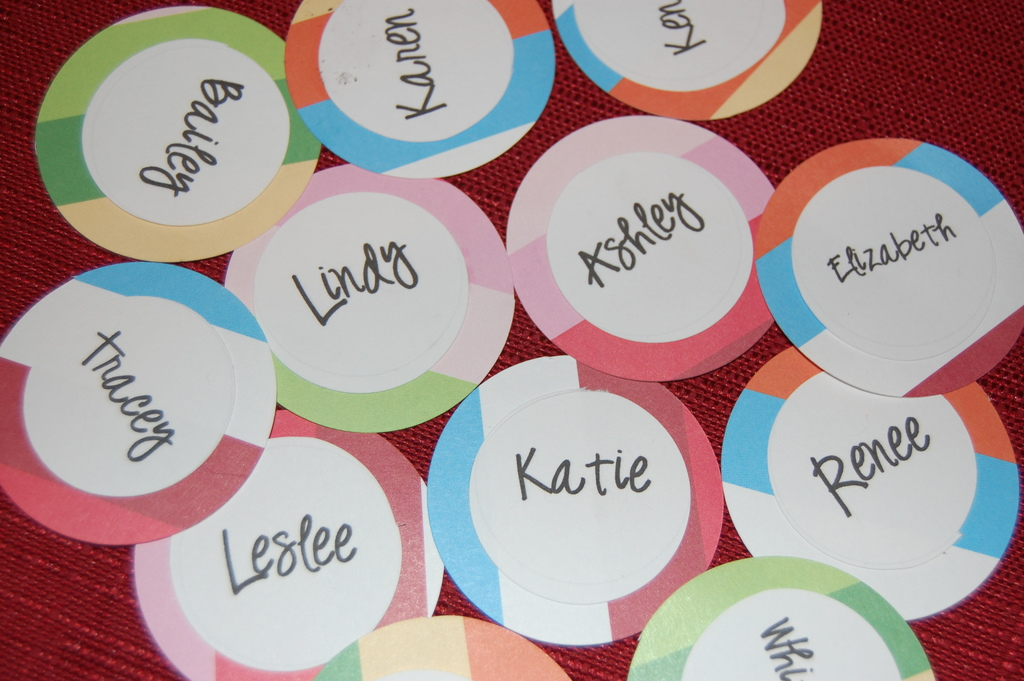plate: (222, 156, 520, 434)
